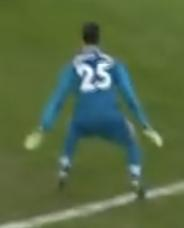goalkeeper: (10, 16, 182, 217)
